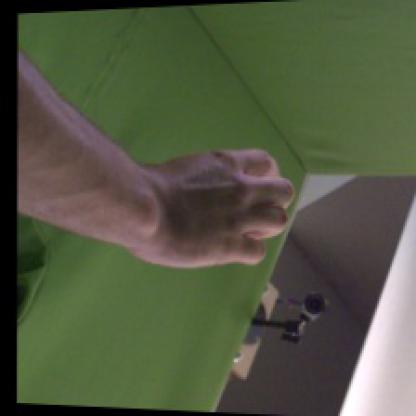Hand: (132, 148, 298, 269)
